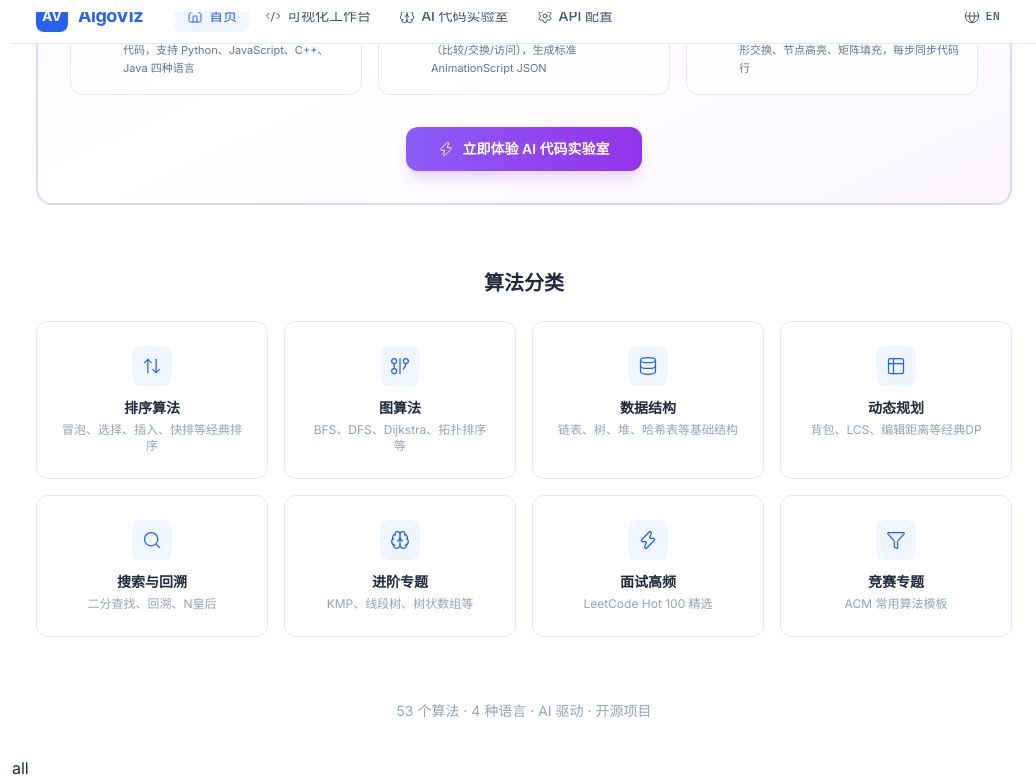
Home page › clicking a category card sets the active category AND navigates to /visualizer
The width and height of the screenshot is (1036, 780).
(page scrolled)
What coordinates should you click on to do the following:
click the button "排序算法 冒泡、选择、插入、快排等经典排序"
I would click on:
 (152, 400)
Its box is [36, 321, 268, 479].
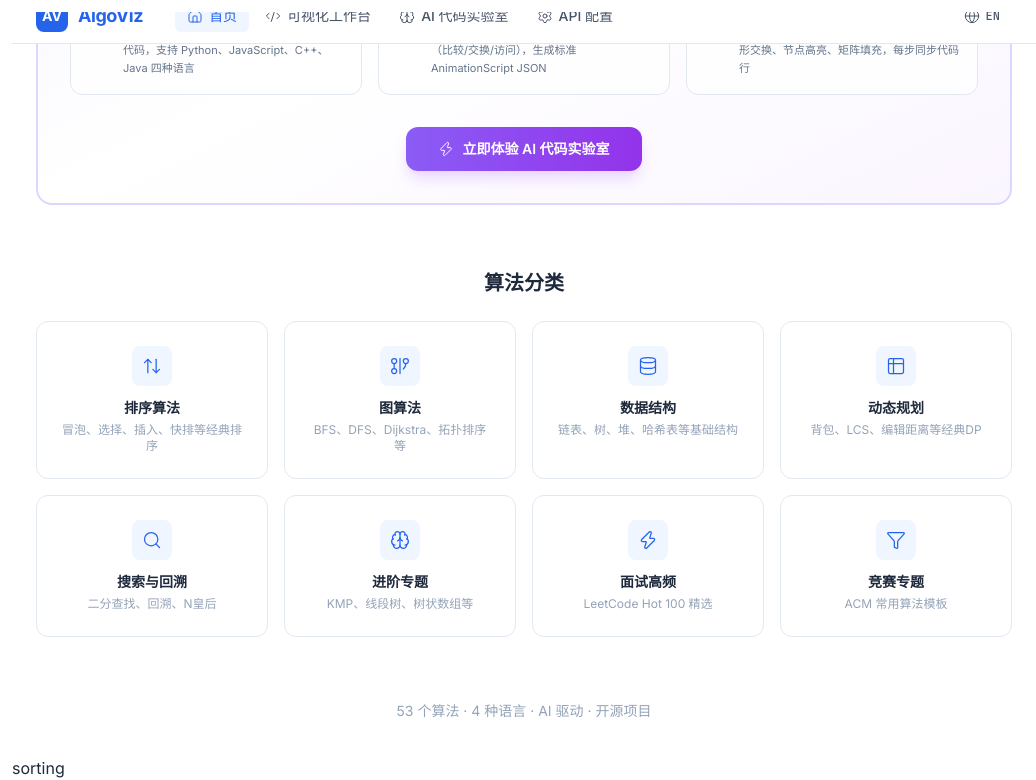
Expected: the text with test id "active-category" reads "sorting", [12, 758, 65, 778]
